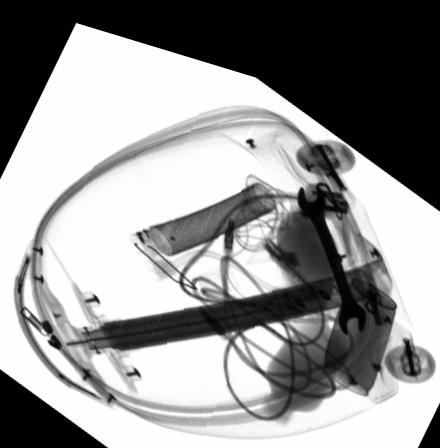Wrench: (295, 165, 366, 315)
